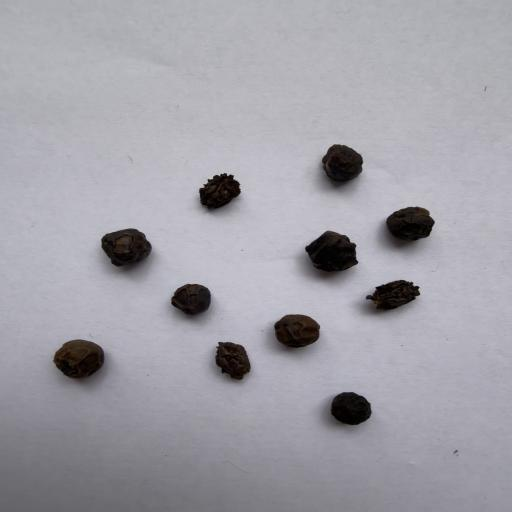Black_pepper: (36, 326, 148, 384), (287, 215, 364, 276), (314, 375, 392, 431), (78, 225, 169, 272), (376, 198, 447, 253), (267, 307, 349, 354), (313, 138, 379, 190), (156, 276, 226, 320)
papaya_seed: (177, 164, 249, 212), (366, 278, 437, 318), (205, 338, 251, 383)
